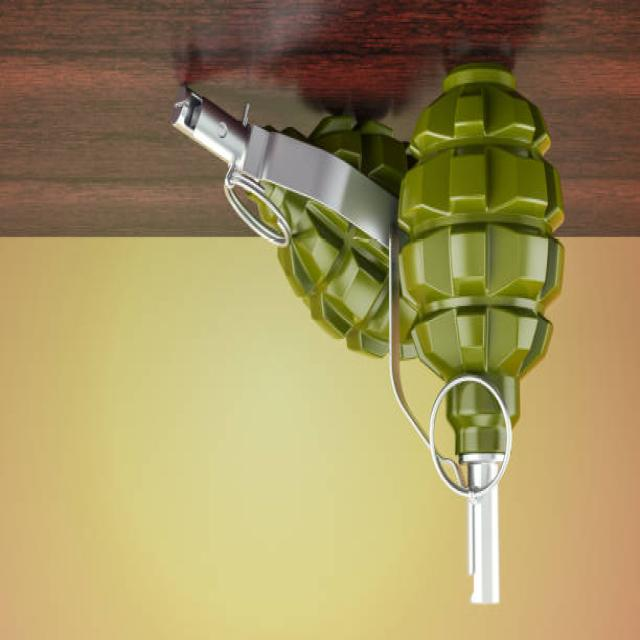grenade: (383, 57, 568, 609)
